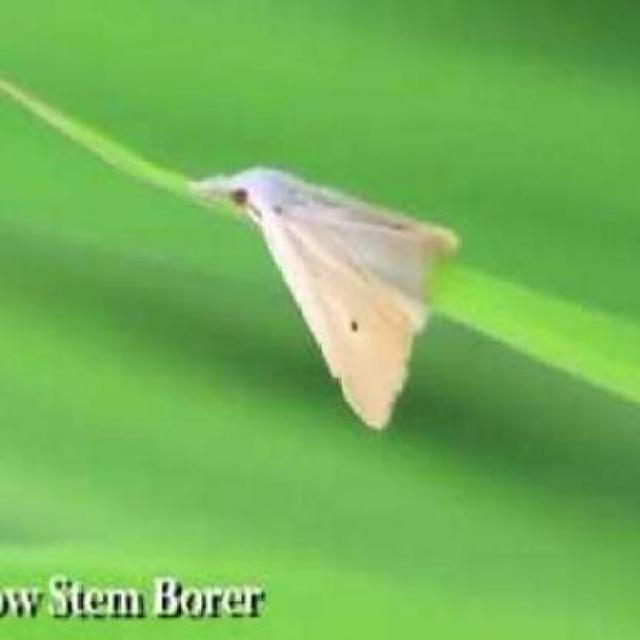stem-borer: (183, 161, 462, 433)
